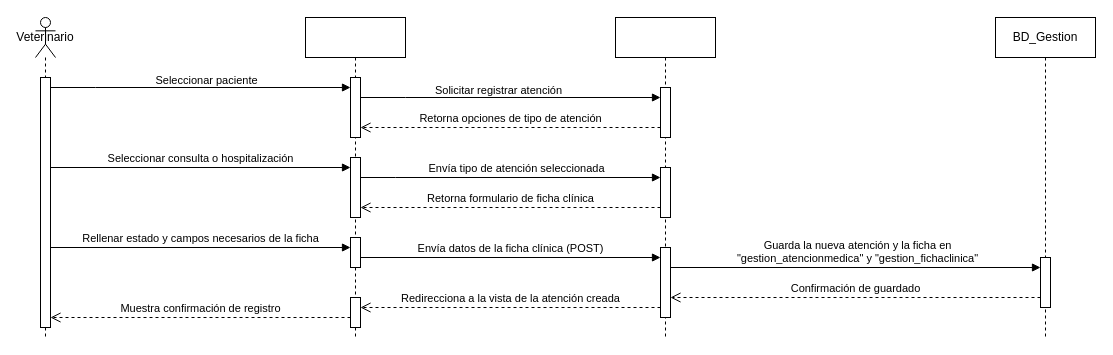
Image size: 1113x355. Some labels were removed from this diagram. Each missing label, with the box of its shape:
C_Atencion: (614, 16, 716, 338)
V_Paciente: (304, 16, 406, 338)
